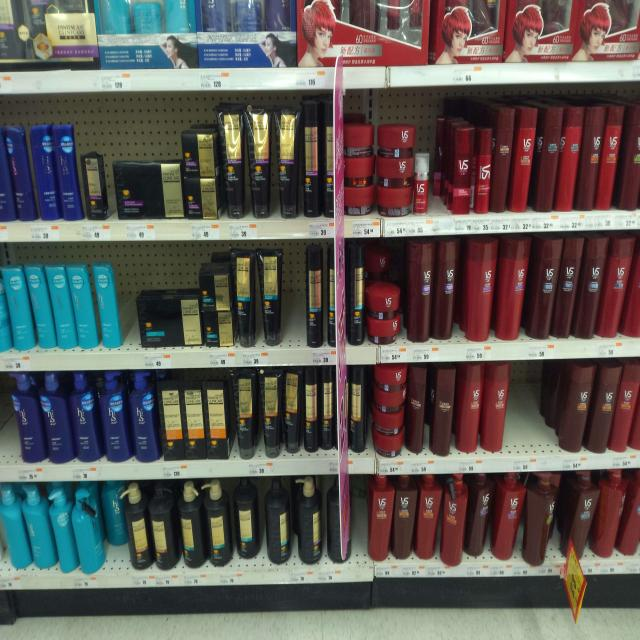empty: (509, 356, 564, 464), (277, 250, 305, 364), (345, 477, 376, 571), (423, 125, 450, 221), (123, 258, 142, 350)
